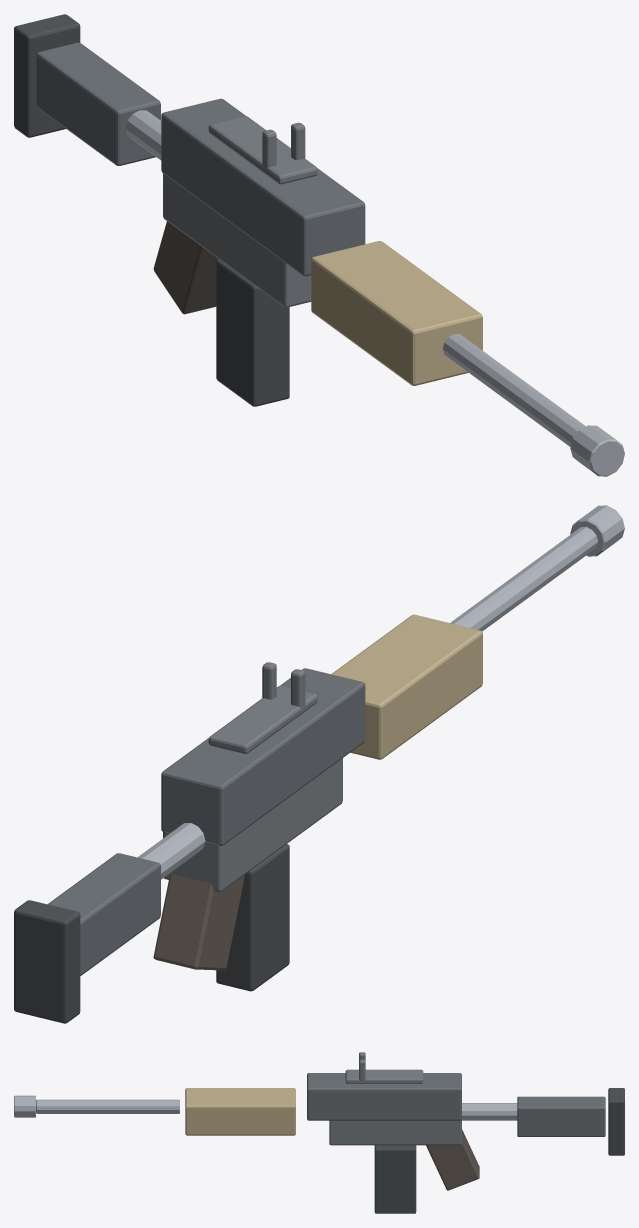
Rendered from burstrifle.glb.
3 renders of one model, top to bottom at view 1: azimuth 30°, elevation 25°; view 2: azimuth 150°, elevation 25°; view 3: azimuth 270°, elevation 25°, orthographic. The views are drawn at different scales.
Visible parts, largest first — view 1: Upper, Handguard, Stock, Mag, Lower, Butt, Barrel, Grip, Carry, Brake, Buffer; view 2: Upper, Handguard, Butt, Stock, Lower, Mag, Grip, Barrel, Carry, Buffer, Brake; view 3: Upper, Handguard, Stock, Lower, Mag, Barrel, Grip, Butt, Carry, Buffer, Brake.
Part boxes in pixels (x1=…): Upper: x1=161, y1=98, x2=365, y2=276; Handguard: x1=311, y1=241, x2=482, y2=385; Stock: x1=36, y1=42, x2=160, y2=165; Mag: x1=216, y1=259, x2=289, y2=406; Lower: x1=163, y1=173, x2=311, y2=307; Butt: x1=14, y1=14, x2=80, y2=137; Barrel: x1=443, y1=334, x2=585, y2=446; Grip: x1=153, y1=221, x2=218, y2=314; Carry: x1=208, y1=116, x2=317, y2=184; Brake: x1=570, y1=425, x2=624, y2=476; Buffer: x1=125, y1=110, x2=161, y2=160; Upper: x1=161, y1=668, x2=365, y2=845; Handguard: x1=331, y1=614, x2=482, y2=759; Butt: x1=14, y1=900, x2=80, y2=1023; Stock: x1=47, y1=853, x2=160, y2=975; Lower: x1=163, y1=758, x2=342, y2=892; Mag: x1=216, y1=844, x2=289, y2=991; Grip: x1=153, y1=874, x2=244, y2=970; Barrel: x1=450, y1=527, x2=597, y2=631; Carry: x1=208, y1=685, x2=317, y2=753; Buffer: x1=137, y1=823, x2=205, y2=879; Brake: x1=570, y1=505, x2=624, y2=556; Upper: x1=307, y1=1073, x2=461, y2=1120; Handguard: x1=185, y1=1088, x2=295, y2=1135; Stock: x1=517, y1=1096, x2=605, y2=1136; Lower: x1=329, y1=1119, x2=461, y2=1145; Mag: x1=374, y1=1145, x2=416, y2=1213; Barrel: x1=36, y1=1099, x2=179, y2=1113; Grip: x1=426, y1=1129, x2=479, y2=1190; Butt: x1=608, y1=1088, x2=624, y2=1155; Carry: x1=345, y1=1069, x2=423, y2=1083; Buffer: x1=462, y1=1103, x2=517, y2=1120; Brake: x1=14, y1=1095, x2=35, y2=1117.
Bounding box in the file's own units: 0.08 × 0.305 × 1.11.
